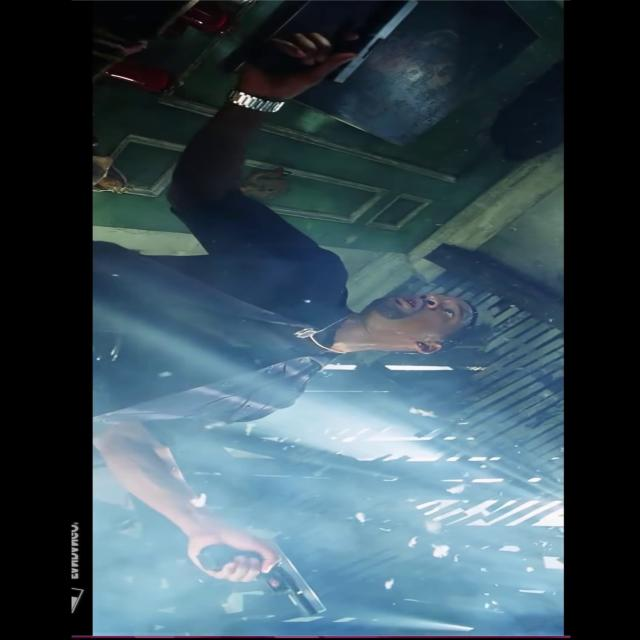weapons: (268, 0, 434, 88), (188, 532, 348, 622)
